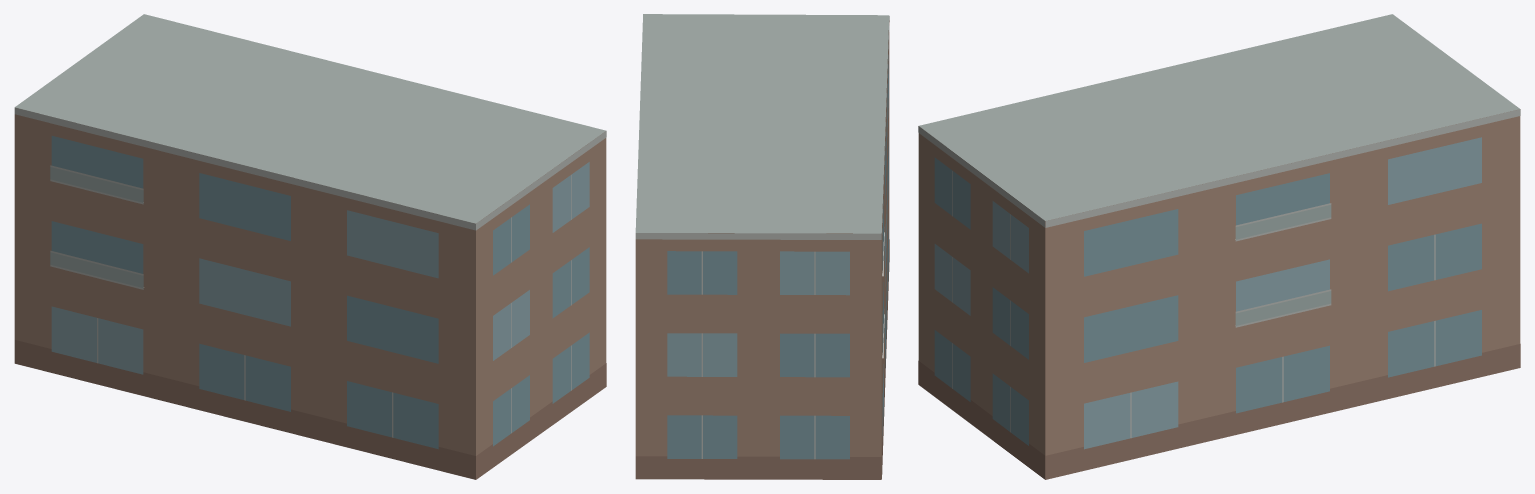
Rendered from survey-upis-32705846.glb.
The picture shows the model from 3 angles, left to right: view 1: azimuth 30°, elevation 25°; view 2: azimuth 150°, elevation 25°; view 3: azimuth 270°, elevation 25°; orthographic projection. The views are drawn at different scales.
Visible parts, largest first — view 1: survey-upis-32705846.tmp; view 2: survey-upis-32705846.tmp; view 3: survey-upis-32705846.tmp.
Part boxes in pixels (bbox=[...]): survey-upis-32705846.tmp: bbox=[14, 14, 606, 479]; survey-upis-32705846.tmp: bbox=[635, 14, 889, 479]; survey-upis-32705846.tmp: bbox=[918, 14, 1520, 479].
Size of the model in its own units: 15.71 by 9.15 by 19.3.
